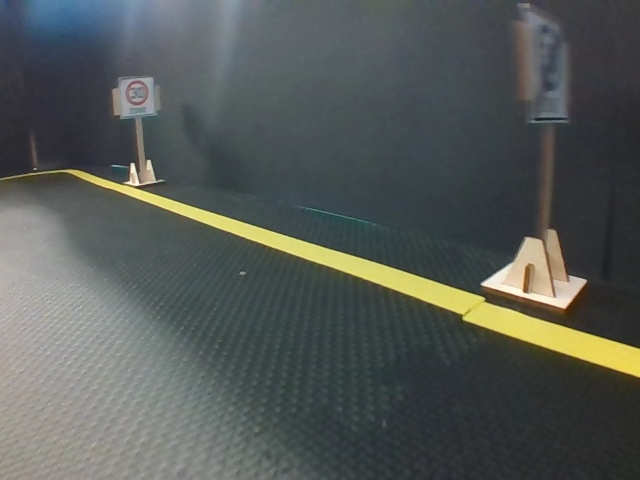30: (117, 78, 154, 116)
no30: (524, 5, 571, 123)
